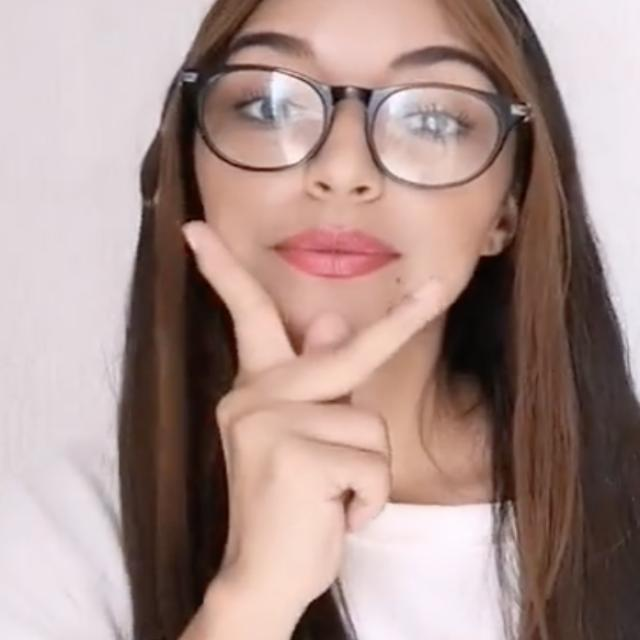PAPA: (168, 220, 456, 624)
